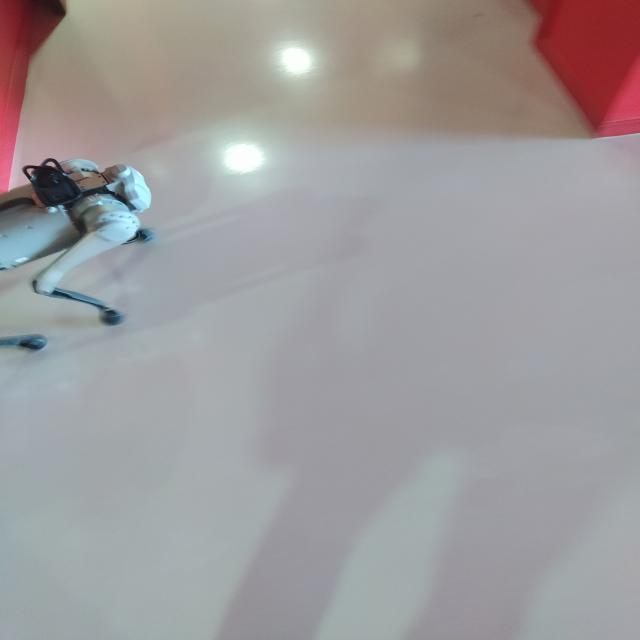unitree-go1-robot: (0, 160, 156, 353)
